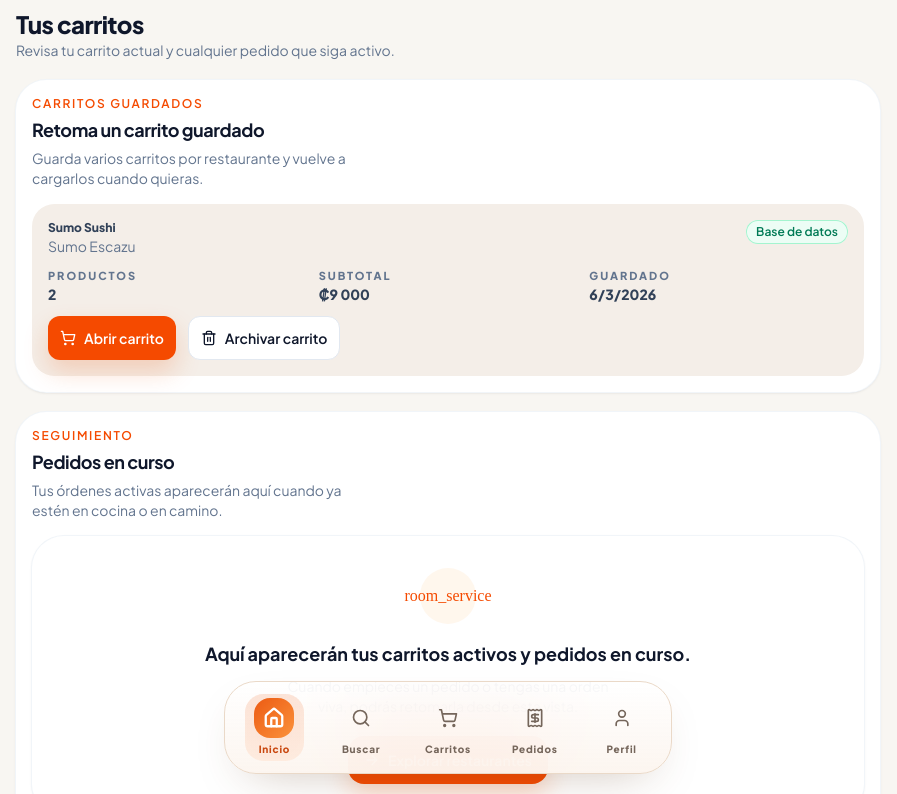
Scenario: CartsPageContent › archives a saved cart and removes it from the list
This screenshot has width=897, height=794.
expect the text "Sumo Escazu" is shown: met, box [48,236,136,256]
Click the button "Archivar carrito" at (264, 338), box [188,316,340,360]
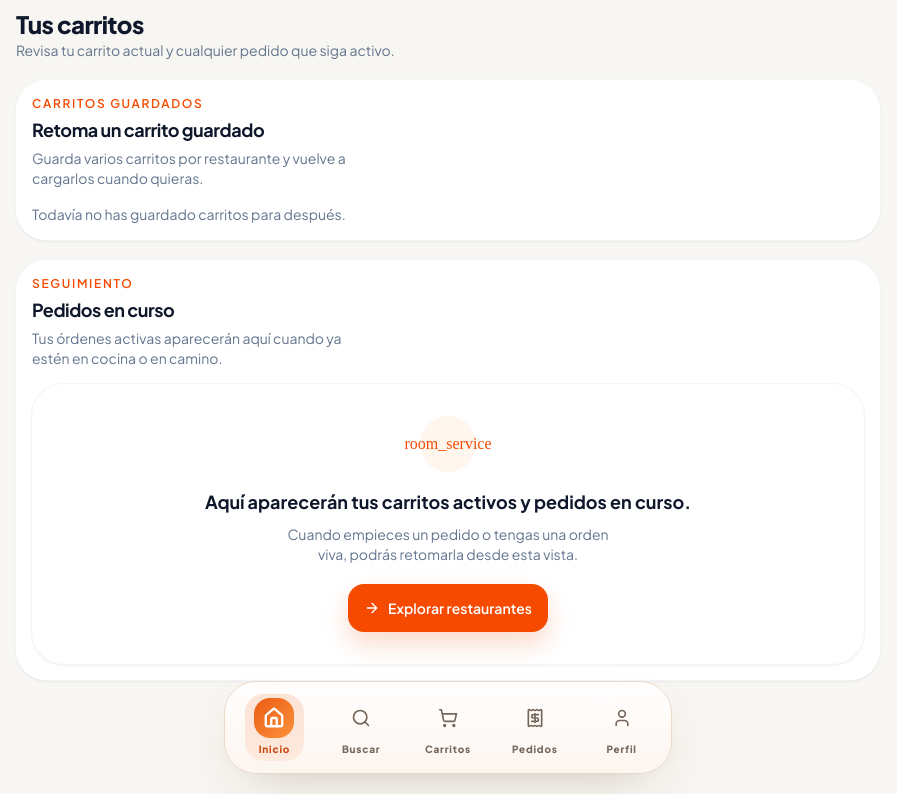
expect the text "Sumo Escazu" is gone: met
